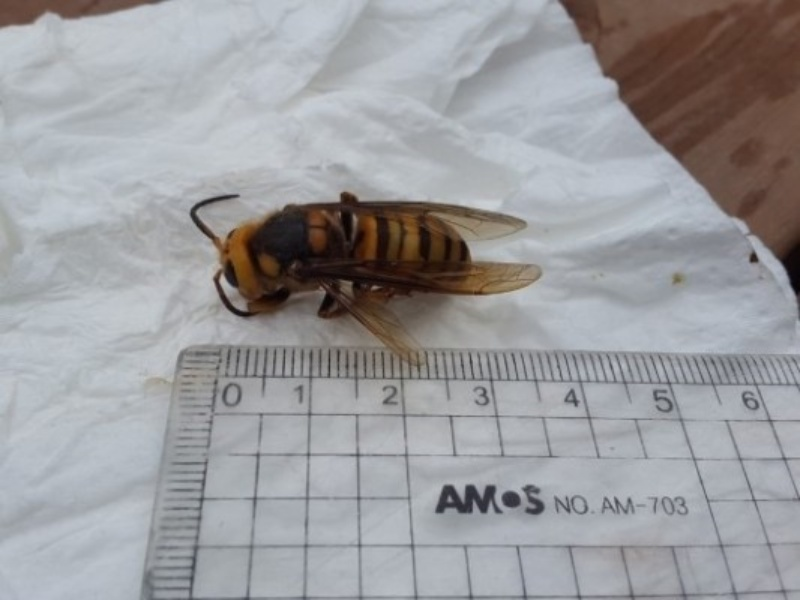asian_giant_hornet: (209, 194, 518, 321)
